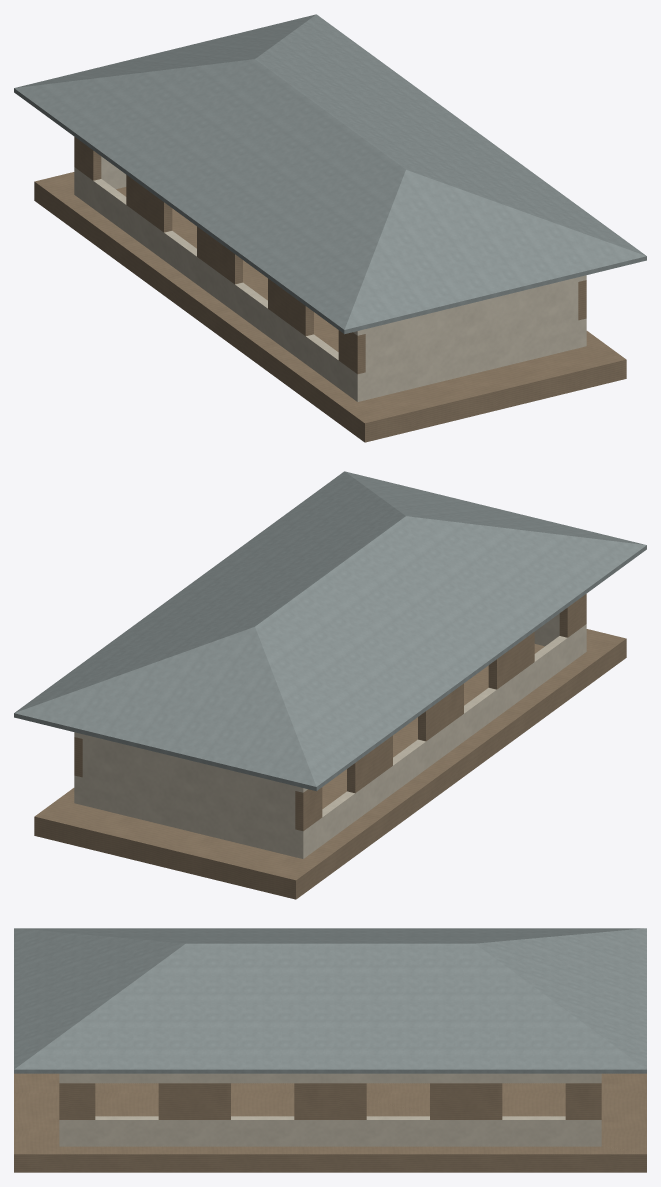
File: gate-body-only.glb
3 renders of one model, top to bottom at view 1: azimuth 30°, elevation 25°; view 2: azimuth 150°, elevation 25°; view 3: azimuth 270°, elevation 25°, orthographic. The views are drawn at different scales.
Parts seen in each view (by area): view 1: C_single_hip_roof_LOD_massing, C_gate_upper_deck, C_room_end_-1, C_window_sill_-1, C_window_pier_-1_3, C_window_pier_-1_2, C_window_pier_-1_1, C_window_pier_-1_0, C_window_pier_-1_4; view 2: C_single_hip_roof_LOD_massing, C_gate_upper_deck, C_room_end_1, C_window_sill_-1, C_window_pier_-1_1, C_window_pier_-1_2, C_window_pier_-1_3, C_window_pier_-1_4, C_window_pier_-1_0; view 3: C_single_hip_roof_LOD_massing, C_gate_upper_deck, C_window_sill_1, C_window_lintel_1, C_window_pier_1_1, C_window_pier_1_2, C_window_pier_1_3, C_window_pier_1_0, C_window_pier_1_4.
Boxes of the visible parts, box(x1,y1,x2,y2) form: C_single_hip_roof_LOD_massing: box(14, 14, 646, 334); C_gate_upper_deck: box(34, 172, 626, 442); C_room_end_-1: box(365, 277, 578, 399); C_window_sill_-1: box(74, 167, 365, 401); C_window_pier_-1_3: box(126, 175, 172, 232); C_window_pier_-1_2: box(197, 226, 242, 284); C_window_pier_-1_1: box(268, 278, 313, 336); C_window_pier_-1_0: box(338, 330, 365, 374); C_window_pier_-1_4: box(74, 137, 101, 180); C_single_hip_roof_LOD_massing: box(14, 471, 646, 791); C_gate_upper_deck: box(34, 629, 626, 899); C_room_end_1: box(82, 734, 295, 856); C_window_sill_-1: box(295, 624, 586, 858); C_window_pier_-1_1: box(488, 632, 534, 689); C_window_pier_-1_2: box(418, 683, 463, 741); C_window_pier_-1_3: box(347, 735, 392, 793); C_window_pier_-1_4: box(295, 787, 322, 831); C_window_pier_-1_0: box(559, 594, 586, 637); C_single_hip_roof_LOD_massing: box(14, 928, 646, 1073); C_gate_upper_deck: box(14, 1073, 646, 1172); C_window_sill_1: box(59, 1116, 601, 1146); C_window_lintel_1: box(59, 1073, 601, 1083); C_window_pier_1_1: box(158, 1083, 230, 1119); C_window_pier_1_2: box(294, 1083, 366, 1119); C_window_pier_1_3: box(430, 1083, 502, 1119); C_window_pier_1_0: box(59, 1083, 95, 1119); C_window_pier_1_4: box(565, 1083, 601, 1119).
Bounding box in the file's own units: 7.4 × 4.1 × 14.
Materials: 3 (3 with a texture image).
